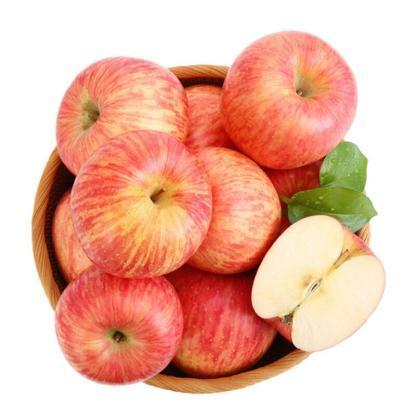apple: (68, 127, 211, 273), (220, 28, 358, 171), (54, 56, 192, 176), (52, 268, 183, 383), (180, 148, 283, 273), (167, 264, 280, 377)
